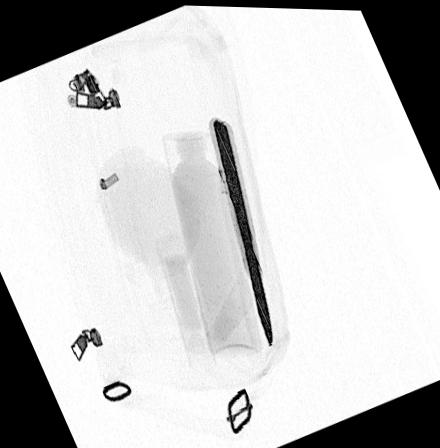Pliers: (210, 114, 277, 345)
